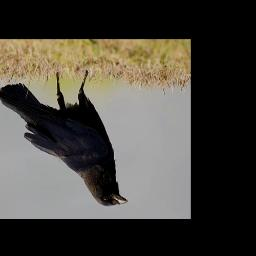Crow: (0, 69, 130, 207)
